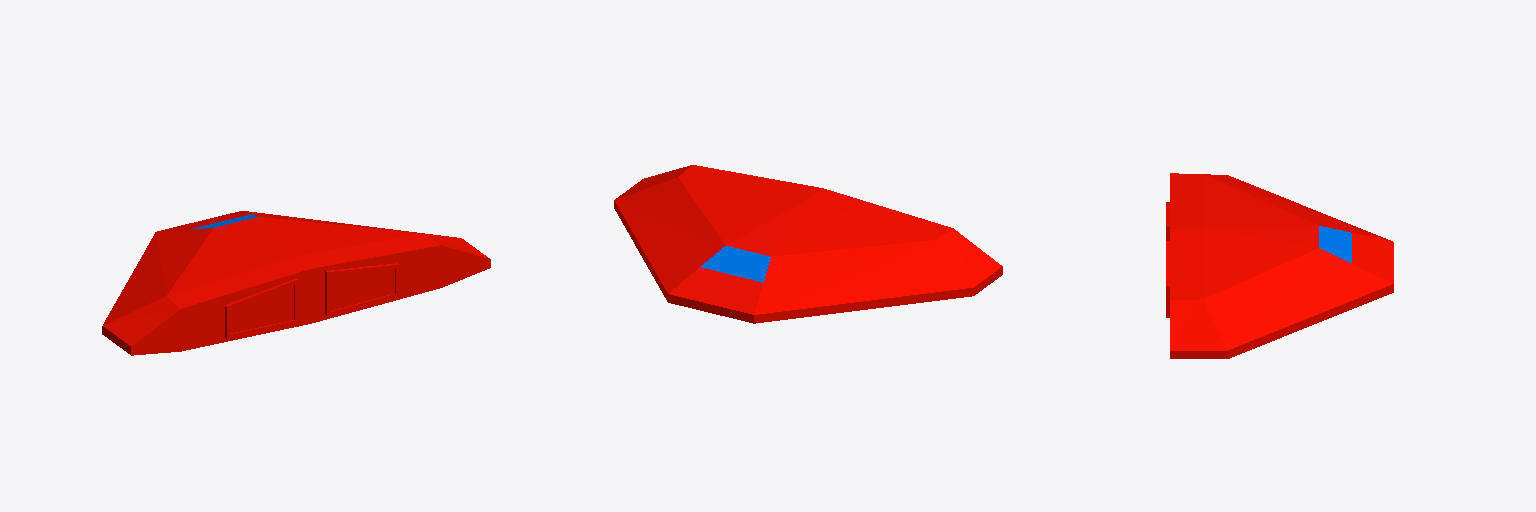
The model's file is MkIIICobra.obj.
3 renders of one model, left to right at view 1: azimuth 30°, elevation 25°; view 2: azimuth 150°, elevation 25°; view 3: azimuth 270°, elevation 25°, orthographic.
Parts seen in each view (by area): view 1: Box001; view 2: Box001, Shape001; view 3: Box001, Shape001.
Part boxes in pixels (x1,y1,x2,y2): Box001: (102,211,490,355); Box001: (614,165,1002,323); Shape001: (701,246,770,282); Box001: (1166,173,1393,358); Shape001: (1319,226,1351,262).
Bounding box in the file's own units: 29.19 × 4.27 × 16.02.